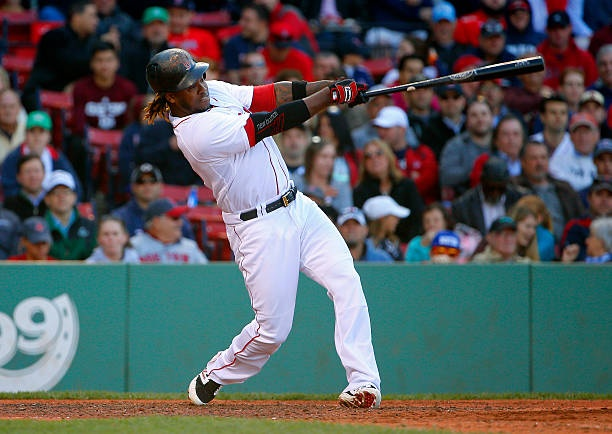bita: (355, 55, 545, 103)
